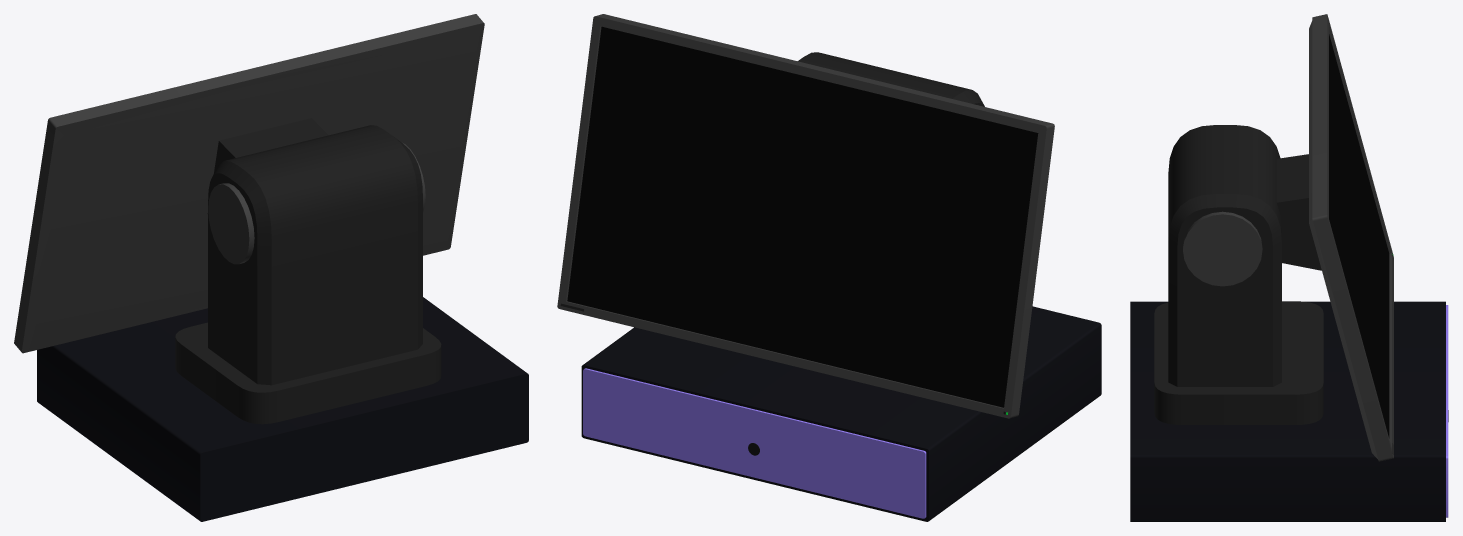
The model's file is CashRegister.FBX.
3 views of the same model, side by side, from view 1: azimuth 30°, elevation 25°; view 2: azimuth 150°, elevation 25°; view 3: azimuth 270°, elevation 25° (orthographic). The views are drawn at different scales.
Parts seen in each view (by area): view 1: CashReg, Box027, Box026, Box028, Cylinder015, Box025; view 2: CashReg, Box027, Box029, Box026; view 3: Box027, Box026, CashReg, Box028, Cylinder015, Box025, Box029.
Boxes of the visible parts, x1=… form: CashReg: x1=14, y1=14, x2=484, y2=353; Box027: x1=37, y1=297, x2=528, y2=521; Box026: x1=208, y1=125, x2=422, y2=385; Box028: x1=175, y1=322, x2=441, y2=424; Cylinder015: x1=208, y1=142, x2=425, y2=264; Box025: x1=207, y1=118, x2=328, y2=213; CashReg: x1=557, y1=14, x2=1054, y2=418; Box027: x1=581, y1=306, x2=1101, y2=521; Box029: x1=583, y1=368, x2=926, y2=518; Box026: x1=798, y1=52, x2=984, y2=106; Box027: x1=1130, y1=301, x2=1445, y2=521; Box026: x1=1168, y1=125, x2=1281, y2=386; CashReg: x1=1309, y1=14, x2=1393, y2=461; Box028: x1=1154, y1=301, x2=1323, y2=424; Cylinder015: x1=1183, y1=211, x2=1262, y2=286; Box025: x1=1276, y1=154, x2=1321, y2=270; Box029: x1=1446, y1=305, x2=1448, y2=517.
Size of the model in its own units: 14.67 by 11.18 by 9.75.
